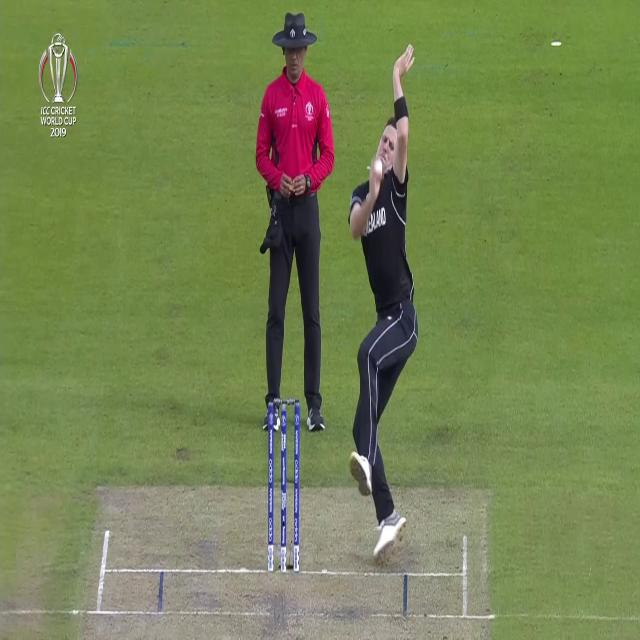ball: (372, 156, 384, 176)
